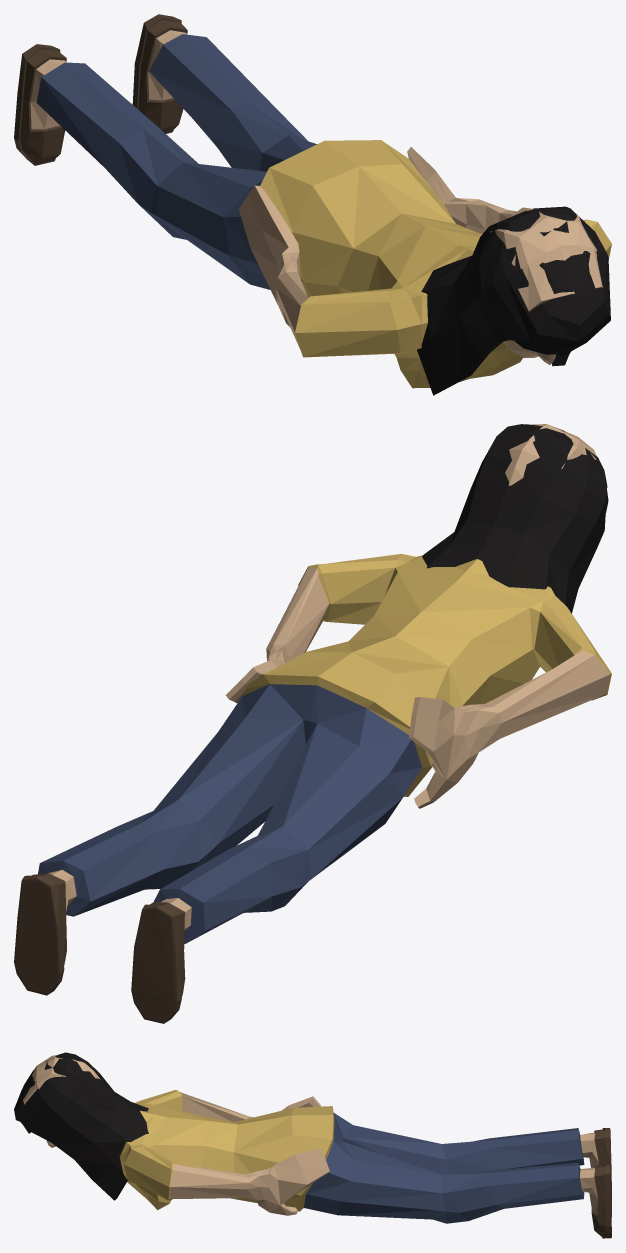
Rendered from woman-looking-up.obj.
3 renders of one model, top to bottom at view 1: azimuth 30°, elevation 25°; view 2: azimuth 150°, elevation 25°; view 3: azimuth 270°, elevation 25°, orthographic. The views are drawn at different scales.
Visible parts, largest first — view 1: woman-looking-up; view 2: woman-looking-up; view 3: woman-looking-up.
Boxes of the visible parts, left/top/right/bottom form: woman-looking-up: left=14, top=14, right=611, bottom=395; woman-looking-up: left=14, top=424, right=611, bottom=1023; woman-looking-up: left=14, top=1052, right=611, bottom=1238.
Bounding box in the file's own units: 24.04 × 18.81 × 63.97.
